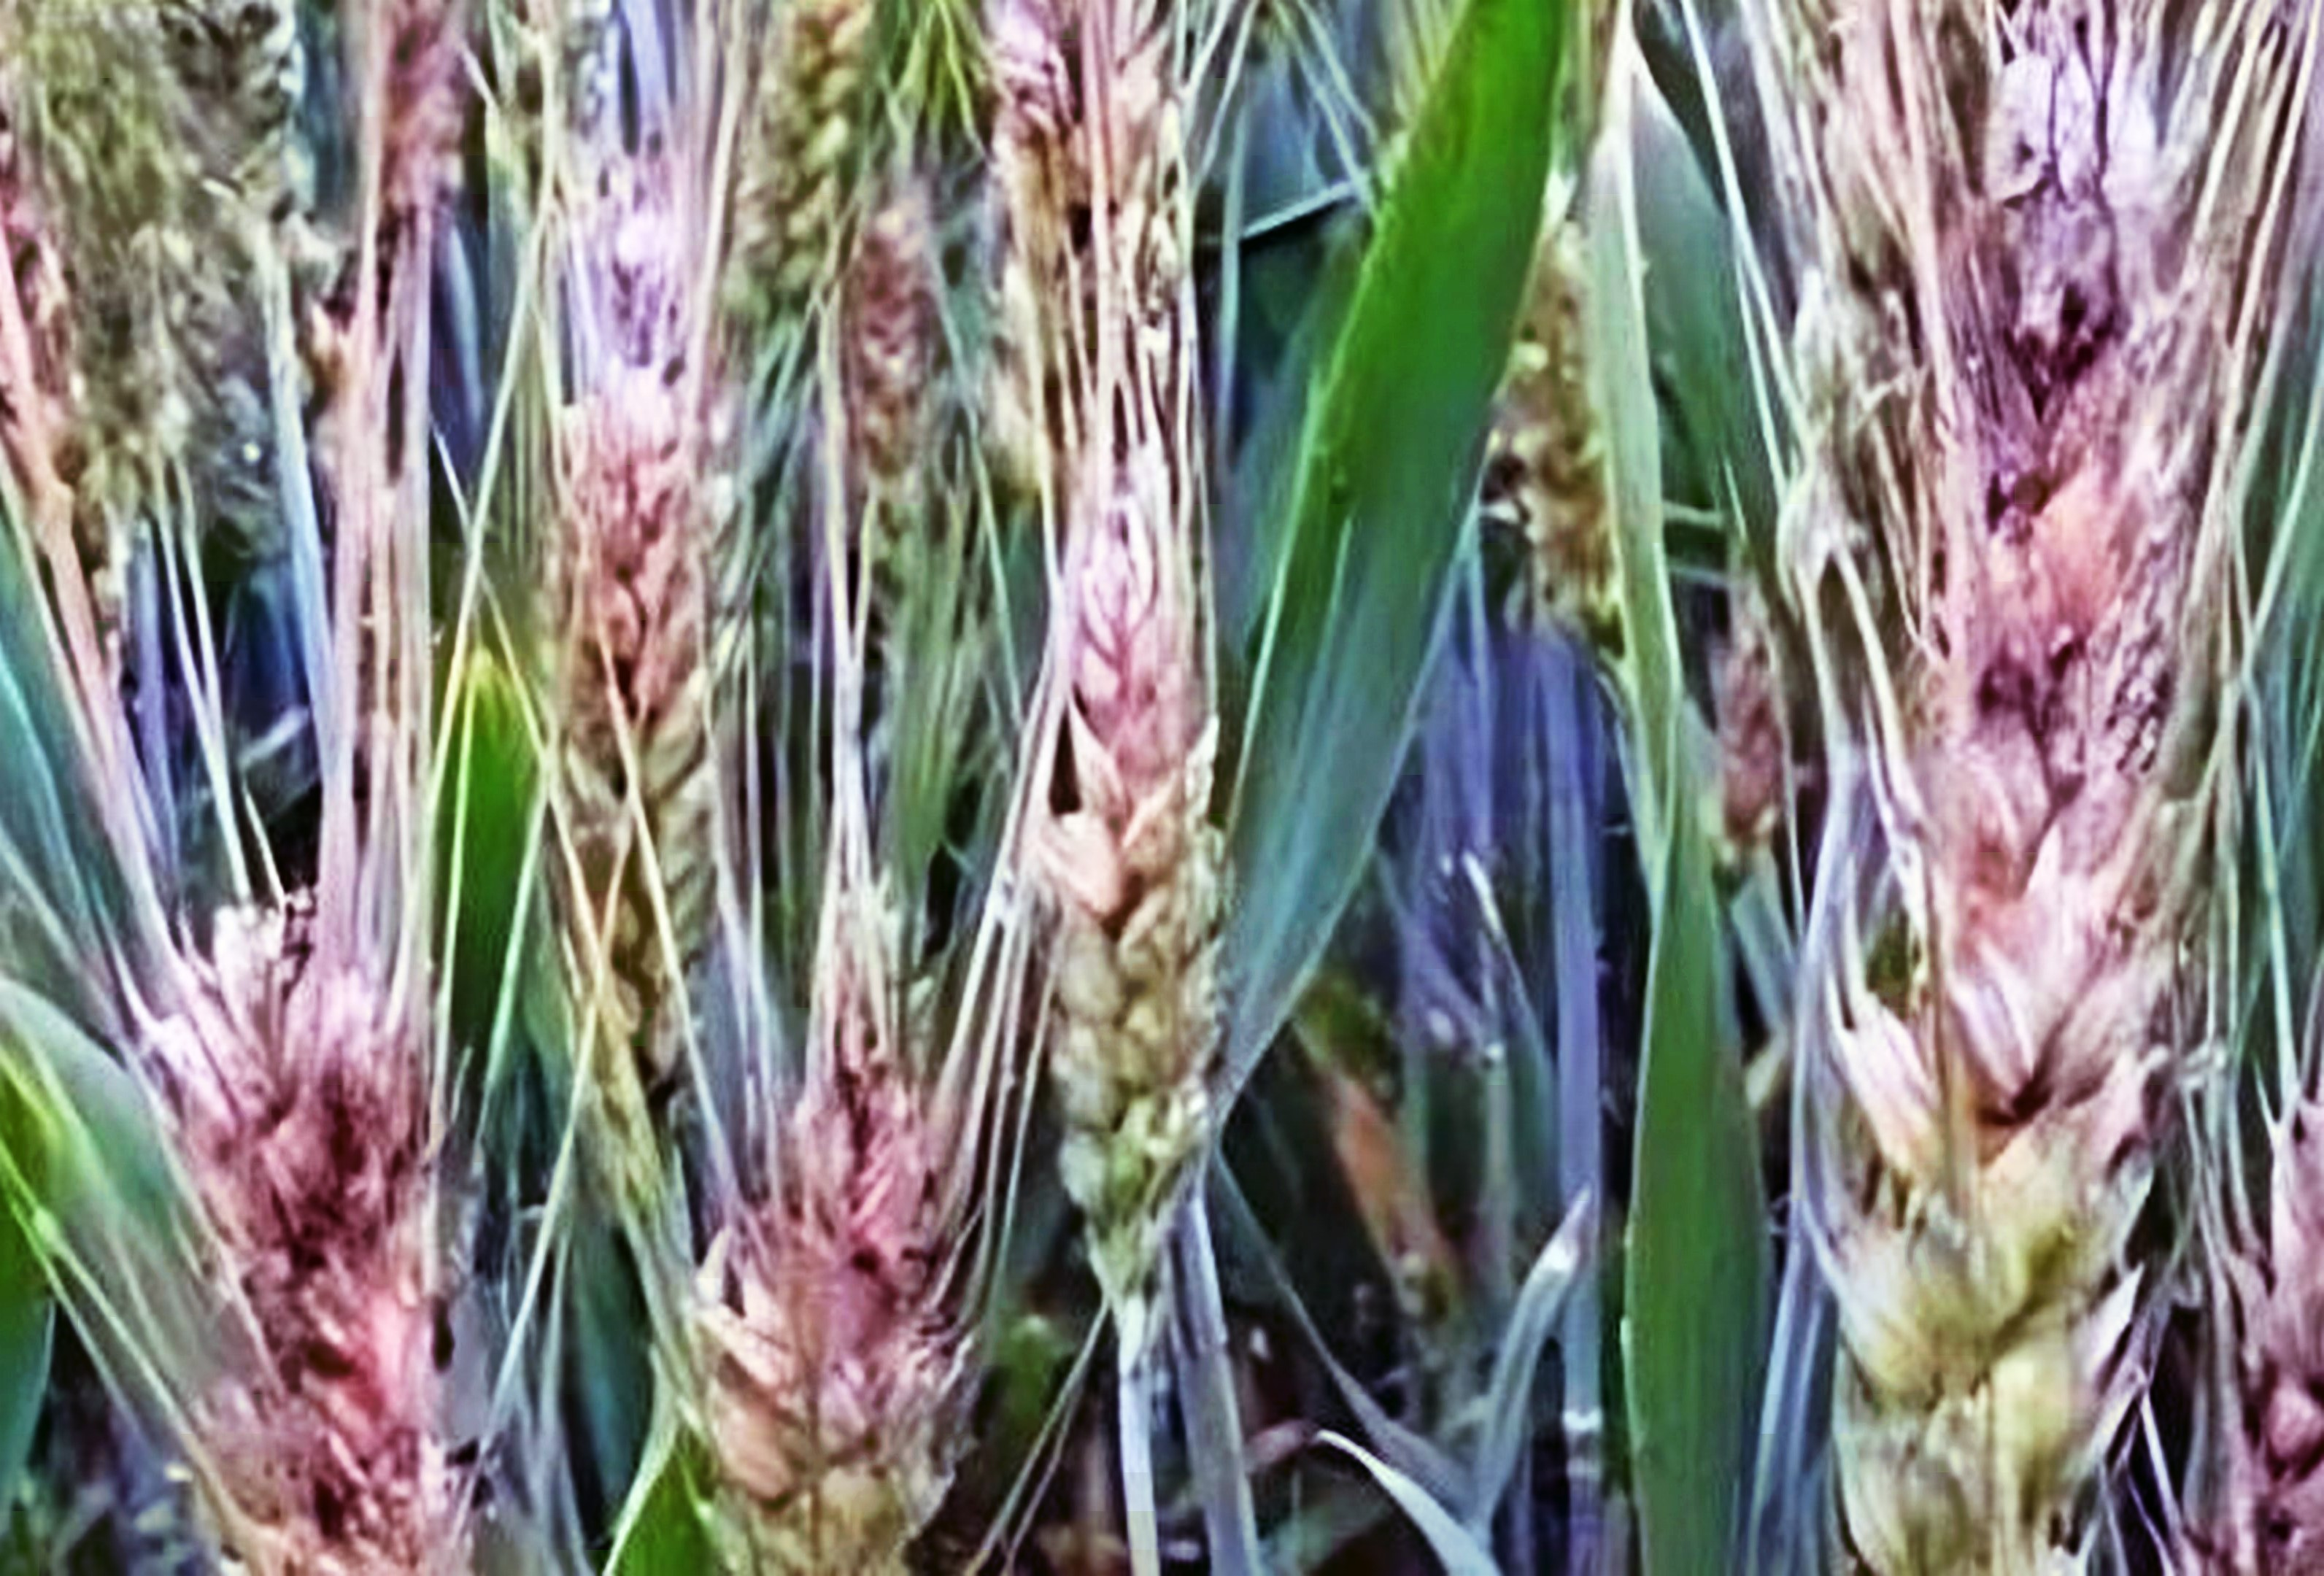Wheat scab: (1043, 531, 1235, 1296)
